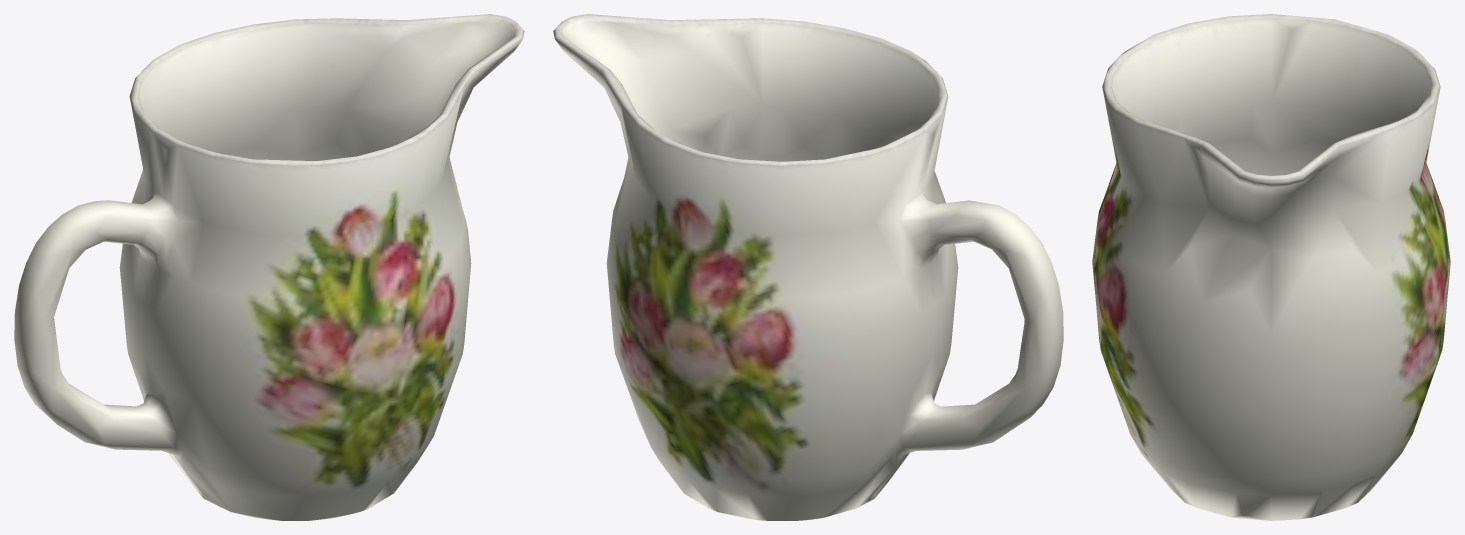
File: jug.glb
3 views of the same model, side by side, from view 1: azimuth 30°, elevation 25°; view 2: azimuth 150°, elevation 25°; view 3: azimuth 270°, elevation 25° (orthographic). The views are drawn at different scales.
Visible parts, largest first — view 1: jug_01; view 2: jug_01; view 3: jug_01.
Part boxes in pixels (x1,y1,x2,y2): jug_01: (14, 14, 524, 520); jug_01: (553, 14, 1063, 520); jug_01: (1092, 14, 1450, 520).
Size of the model in its own units: 0.275 by 0.2113 by 0.1675.
Materials: 1 (1 with a texture image).
